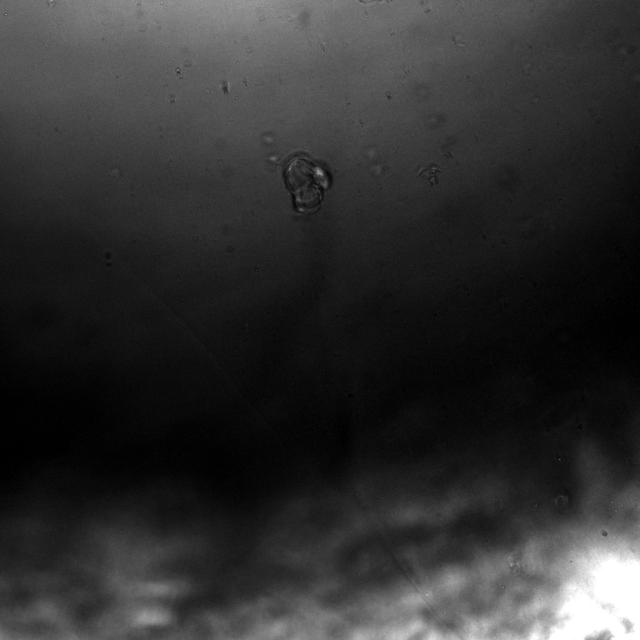organoid: (282, 151, 332, 214)
